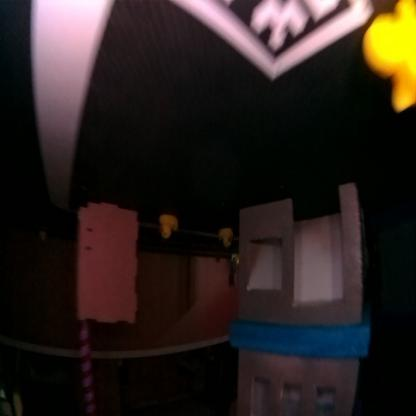Duckie: (364, 2, 414, 114), (158, 214, 178, 240), (216, 229, 232, 248), (39, 233, 45, 243)
QR code: (173, 5, 371, 78)
